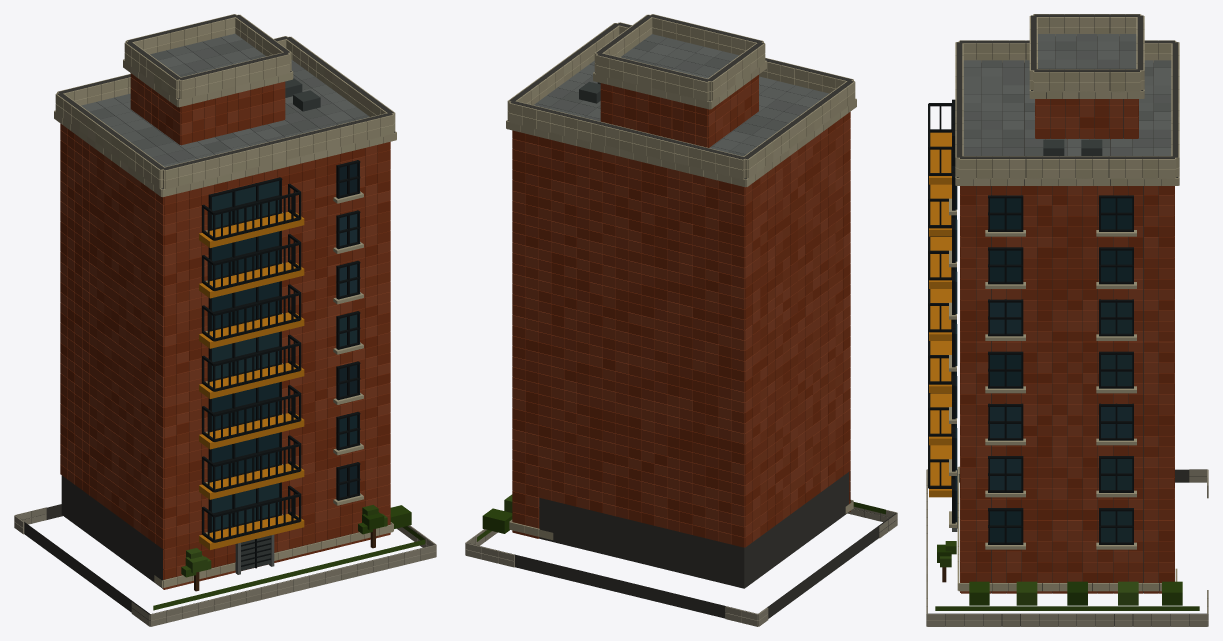
Rendered from SM_StreetFrontage_063.fbx.
The picture shows the model from 3 angles, left to right: view 1: azimuth 30°, elevation 25°; view 2: azimuth 150°, elevation 25°; view 3: azimuth 270°, elevation 25°; orthographic projection. The views are drawn at different scales.
Parts seen in each view (by area): view 1: SM_StreetFrontage_063; view 2: SM_StreetFrontage_063; view 3: SM_StreetFrontage_063.
Boxes of the visible parts, x1,y1,x2,y2 form: SM_StreetFrontage_063: (14, 14, 436, 626); SM_StreetFrontage_063: (465, 14, 897, 626); SM_StreetFrontage_063: (926, 14, 1208, 626).
Bounding box in the file's own units: 14 × 11.52 × 22.83.
